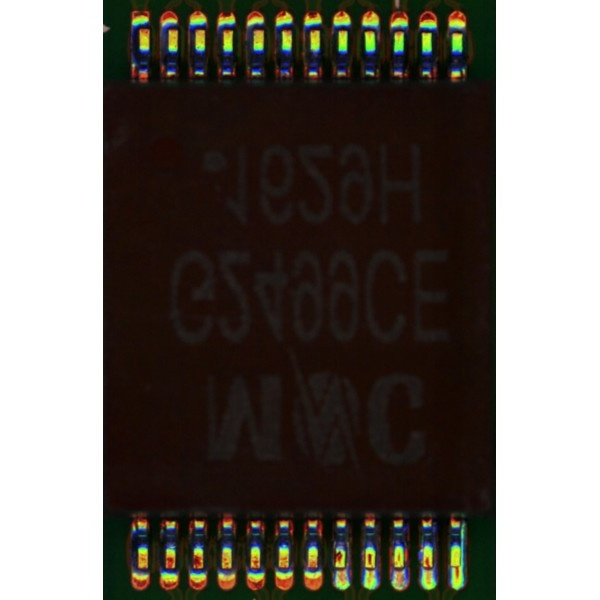Bad_podu: (393, 563, 405, 576), (335, 563, 346, 575), (365, 563, 375, 576), (454, 562, 461, 577), (424, 564, 432, 575)
Bad_qiaojiao: (461, 522, 467, 567), (345, 540, 352, 567)
